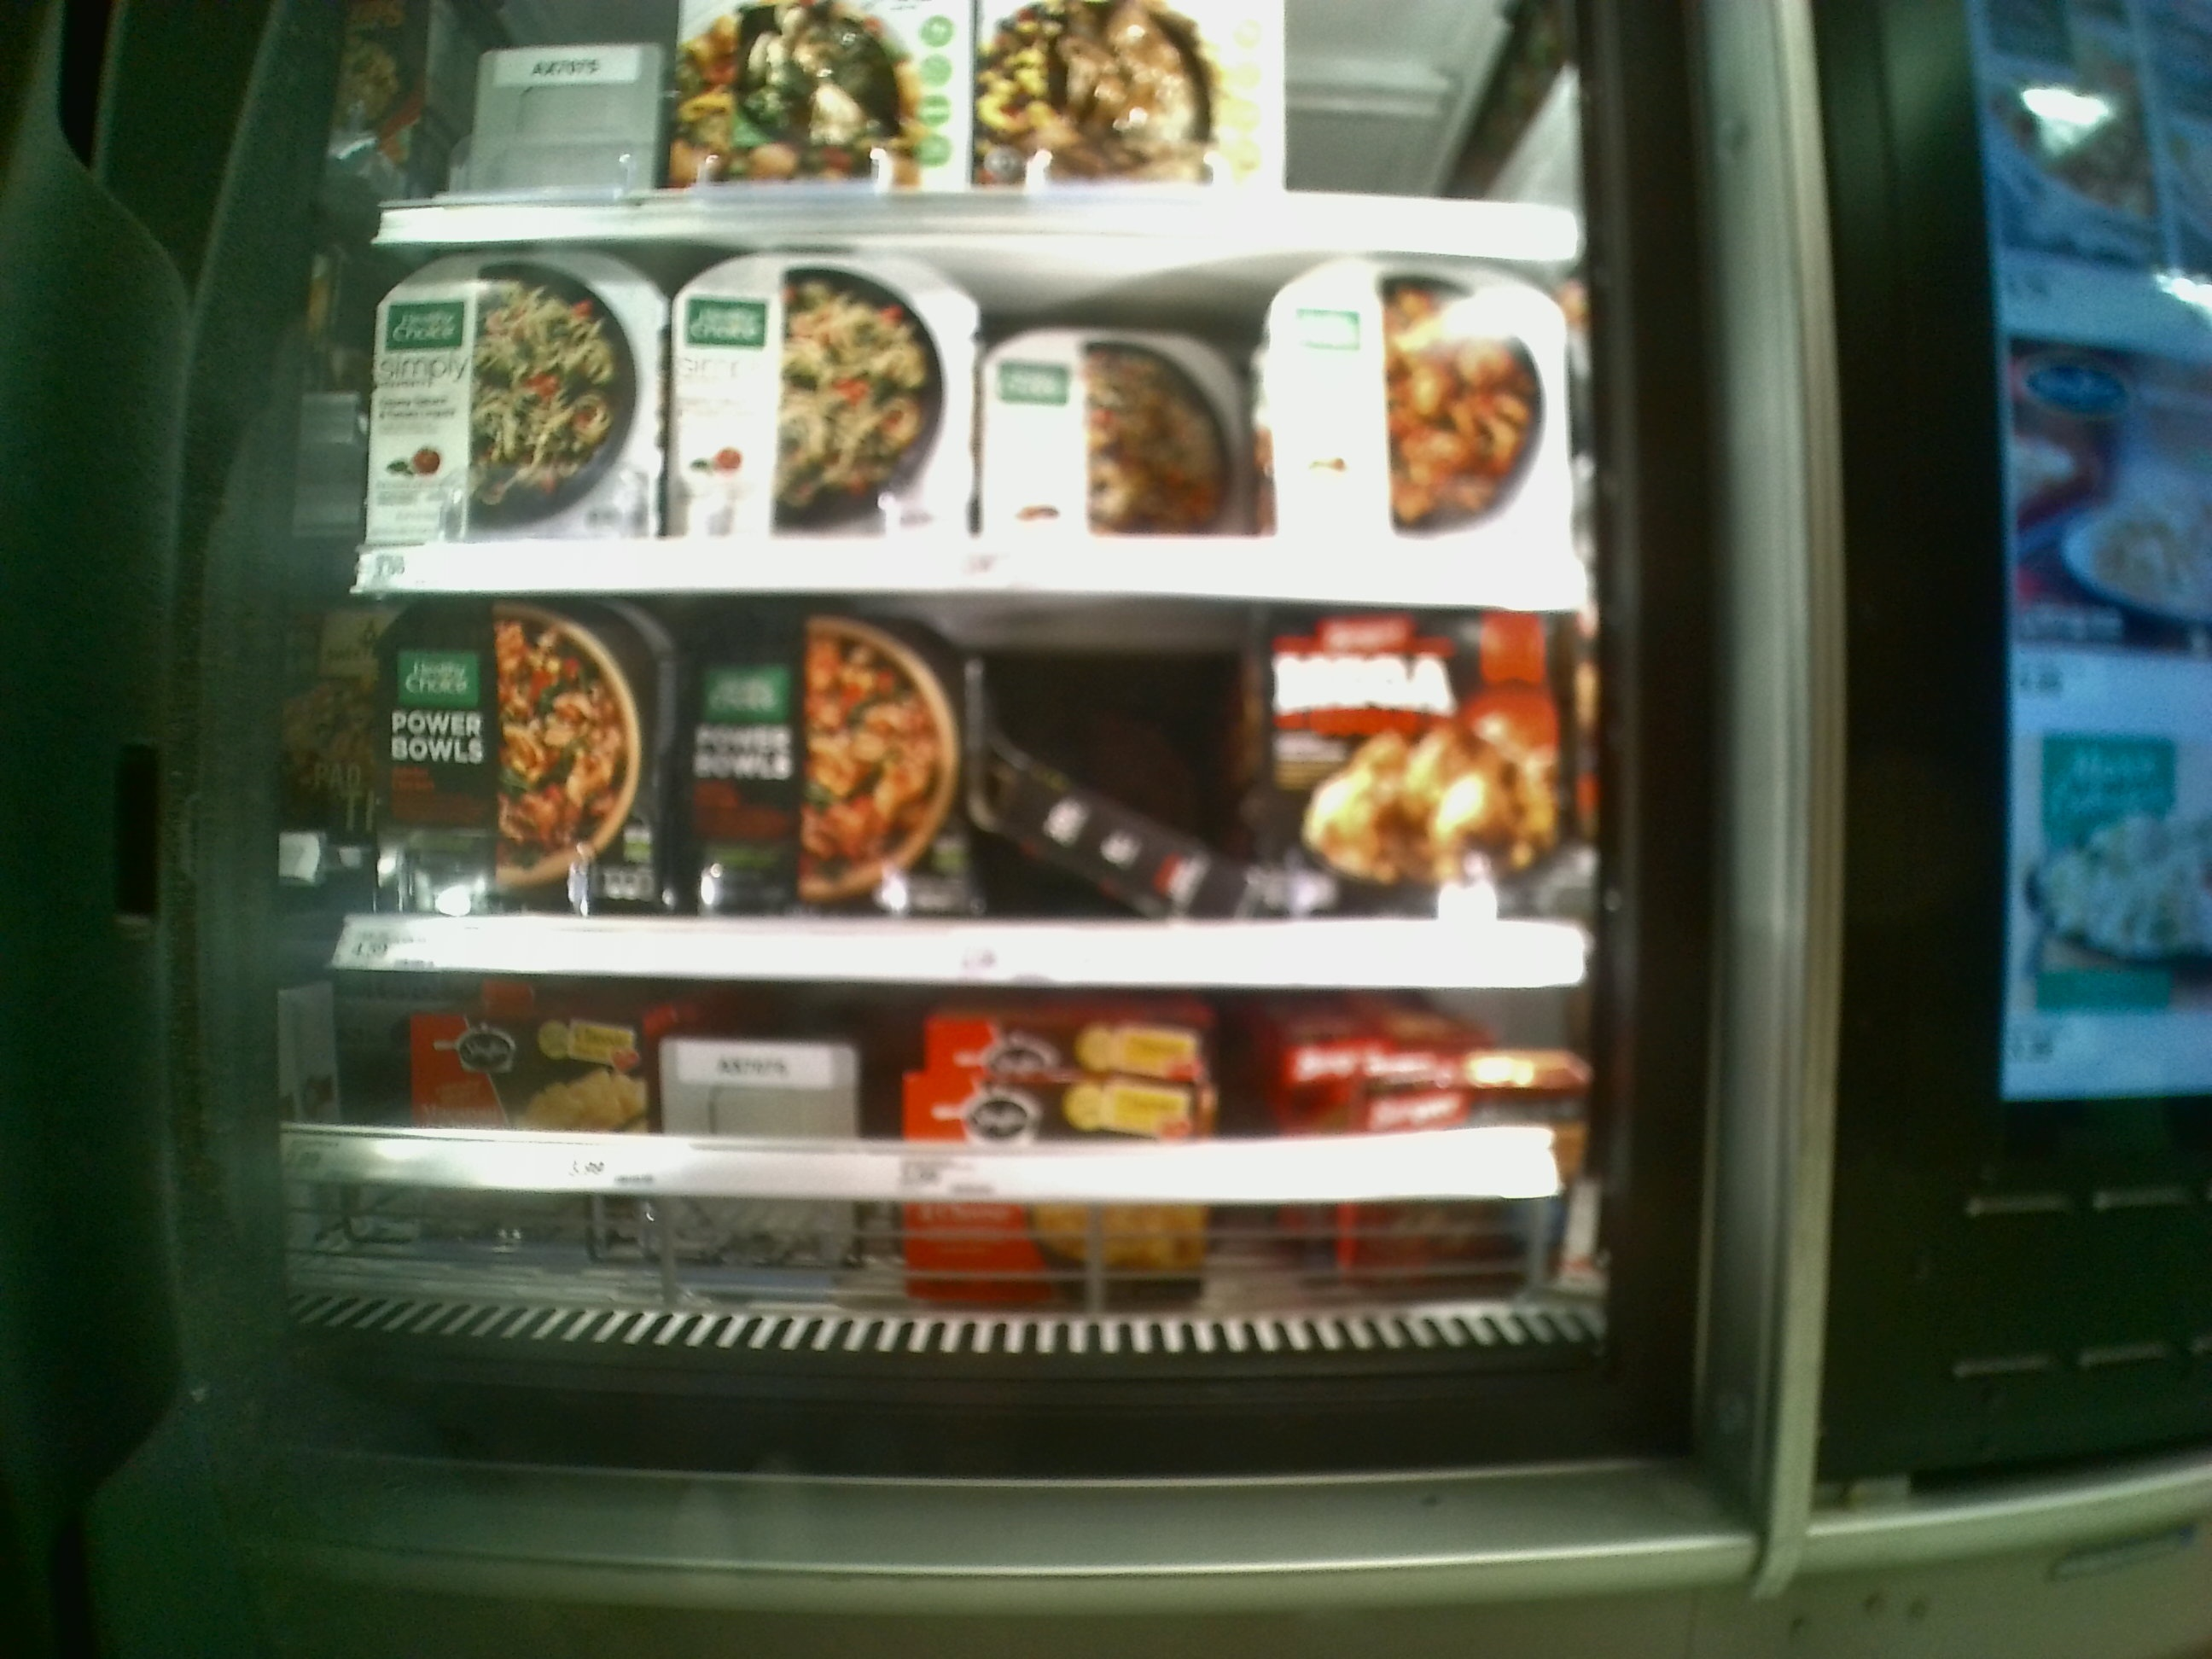shelf: (340, 599, 1618, 983), (348, 234, 1599, 599), (324, 957, 1616, 1305)
